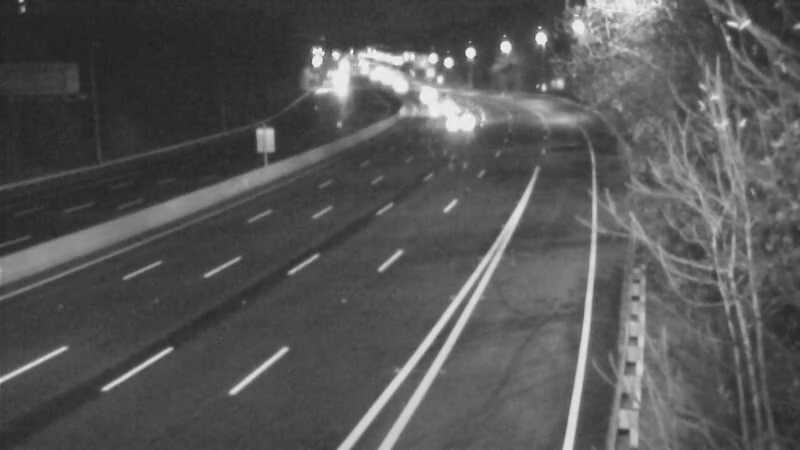vehicle: (419, 75, 469, 125), (422, 101, 472, 151)
